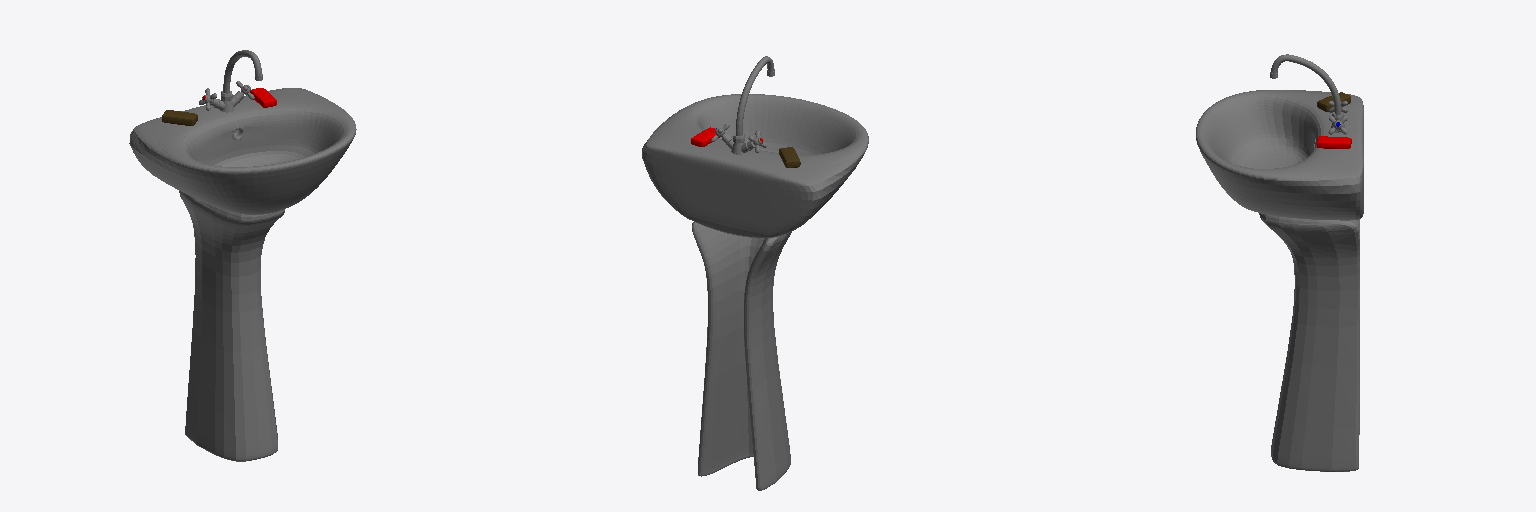
The model's file is washbasin.obj.
The picture shows the model from 3 angles: view 1: azimuth 30°, elevation 25°; view 2: azimuth 150°, elevation 25°; view 3: azimuth 270°, elevation 25°; orthographic projection.
Visible parts, largest first — view 1: washbasin_Куб; view 2: washbasin_Куб; view 3: washbasin_Куб.
Boxes of the visible parts, <box> form: washbasin_Куб: <box>129,50,356,461</box>; washbasin_Куб: <box>642,56,868,490</box>; washbasin_Куб: <box>1196,54,1363,471</box>.
Bounding box in the file's own units: 2.58 × 5.37 × 2.04.